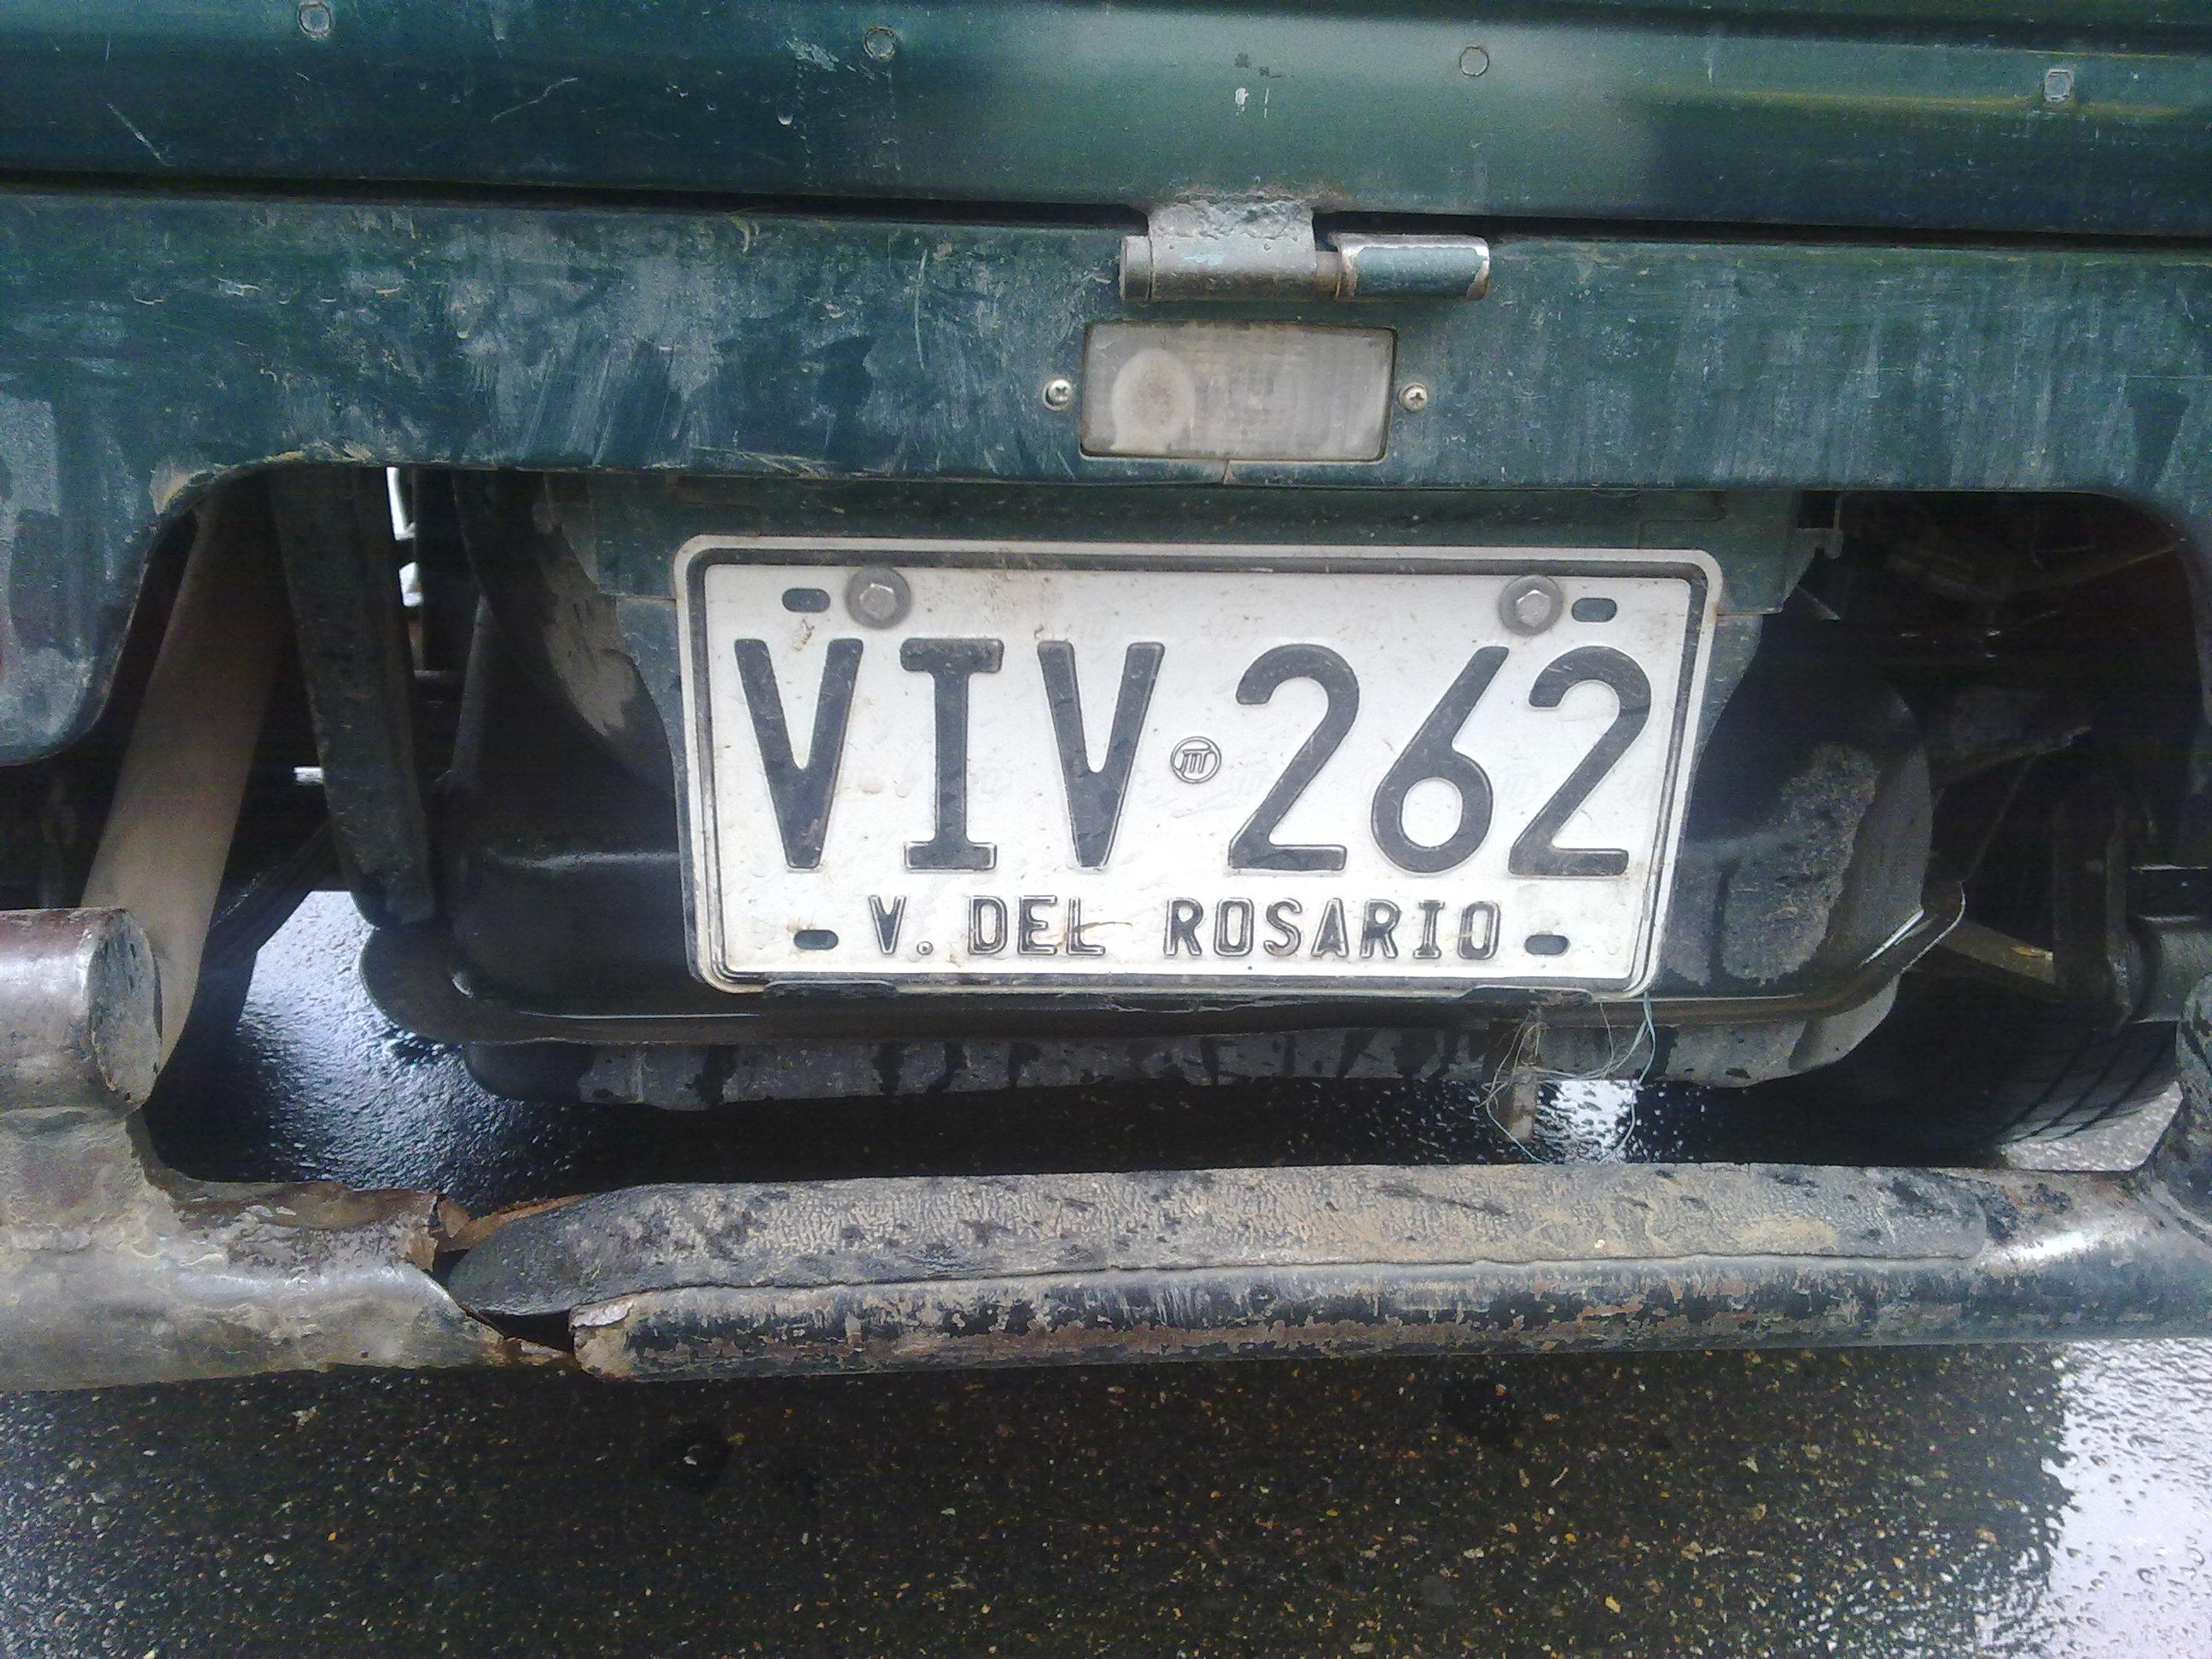placas: (666, 522, 1732, 1010)
